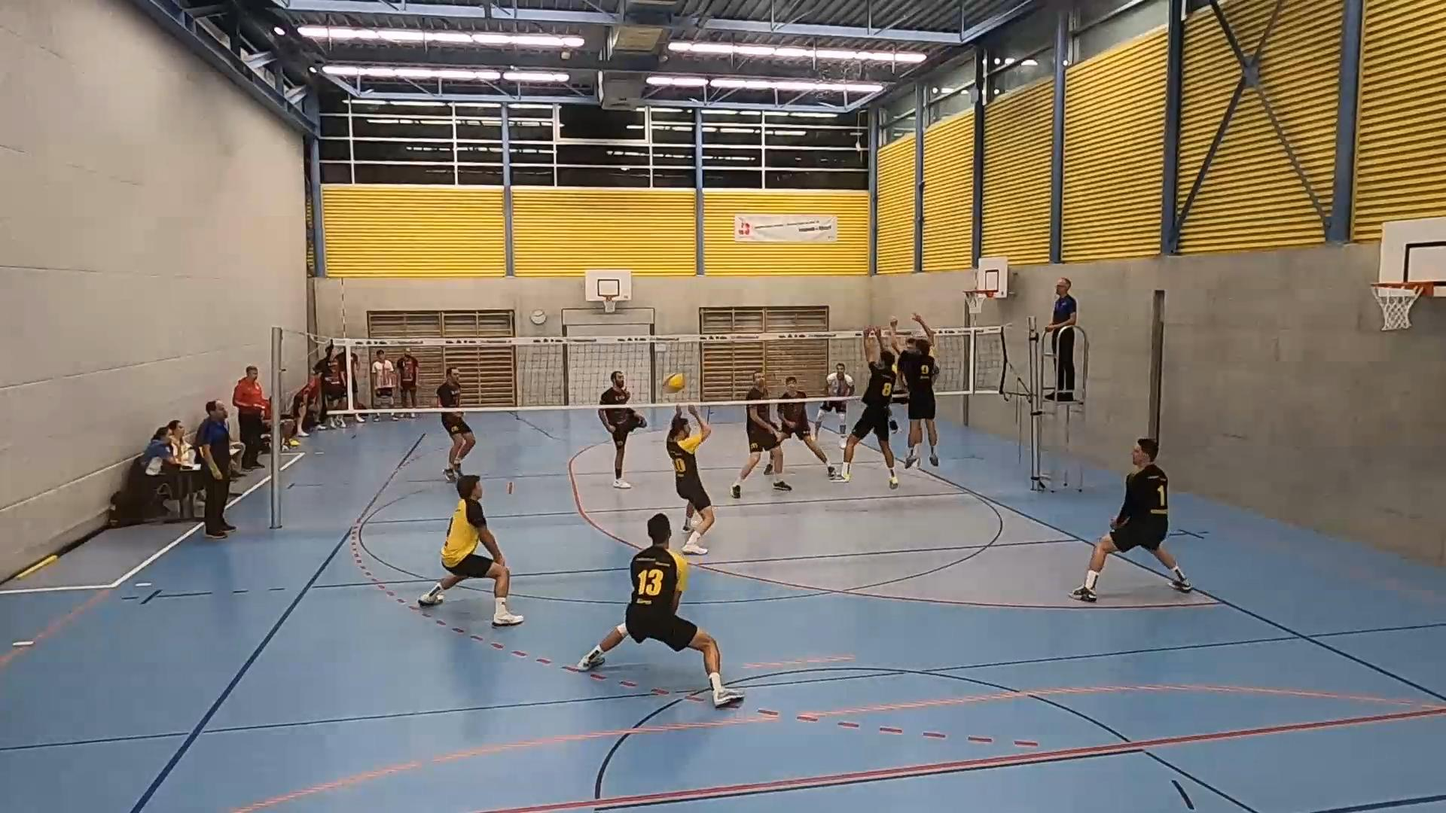difesa: (665, 403, 727, 536)
muro: (836, 315, 903, 496), (884, 314, 941, 481)
